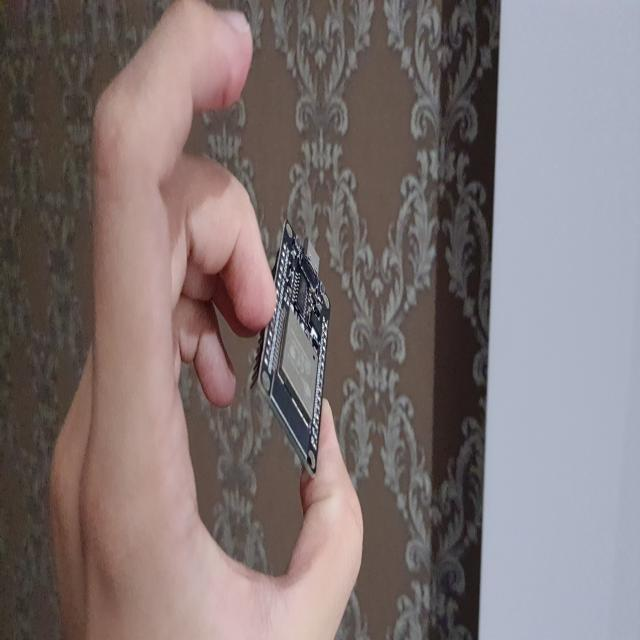ESP32: (253, 223, 330, 475)
